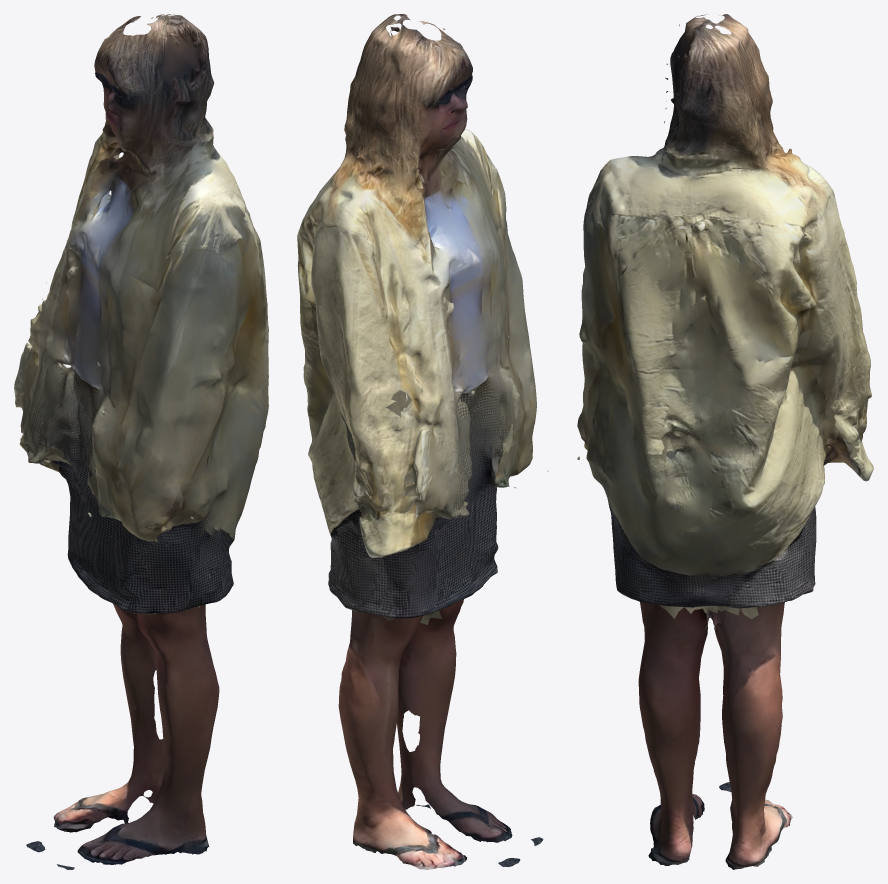
The model's file is lowPoly-Paty.glb.
3 renders of one model, left to right at view 1: azimuth 30°, elevation 25°; view 2: azimuth 150°, elevation 25°; view 3: azimuth 270°, elevation 25°, orthographic. The views are drawn at different scales.
Size of the model in its own units: 0.9285 by 3.57 by 1.15.
8 materials, 8 textured.
